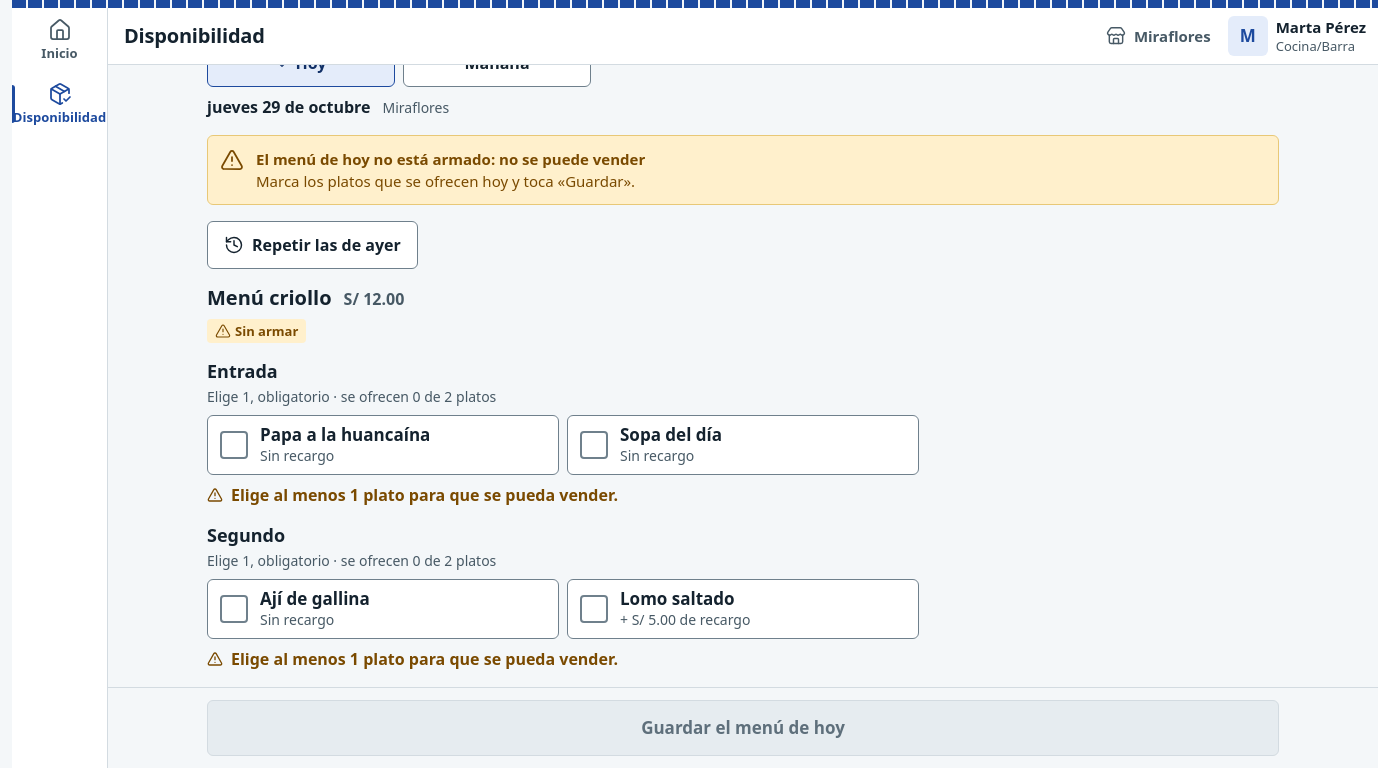
Test case: menú del día: armar › marcar platos y guardar manda el día y las opciones, y deja el menú armado
The image size is (1378, 768).
(page scrolled)
Click the checkbox labelled "Sopa del día Sin recargo": click(671, 434) [567,415,919,475]
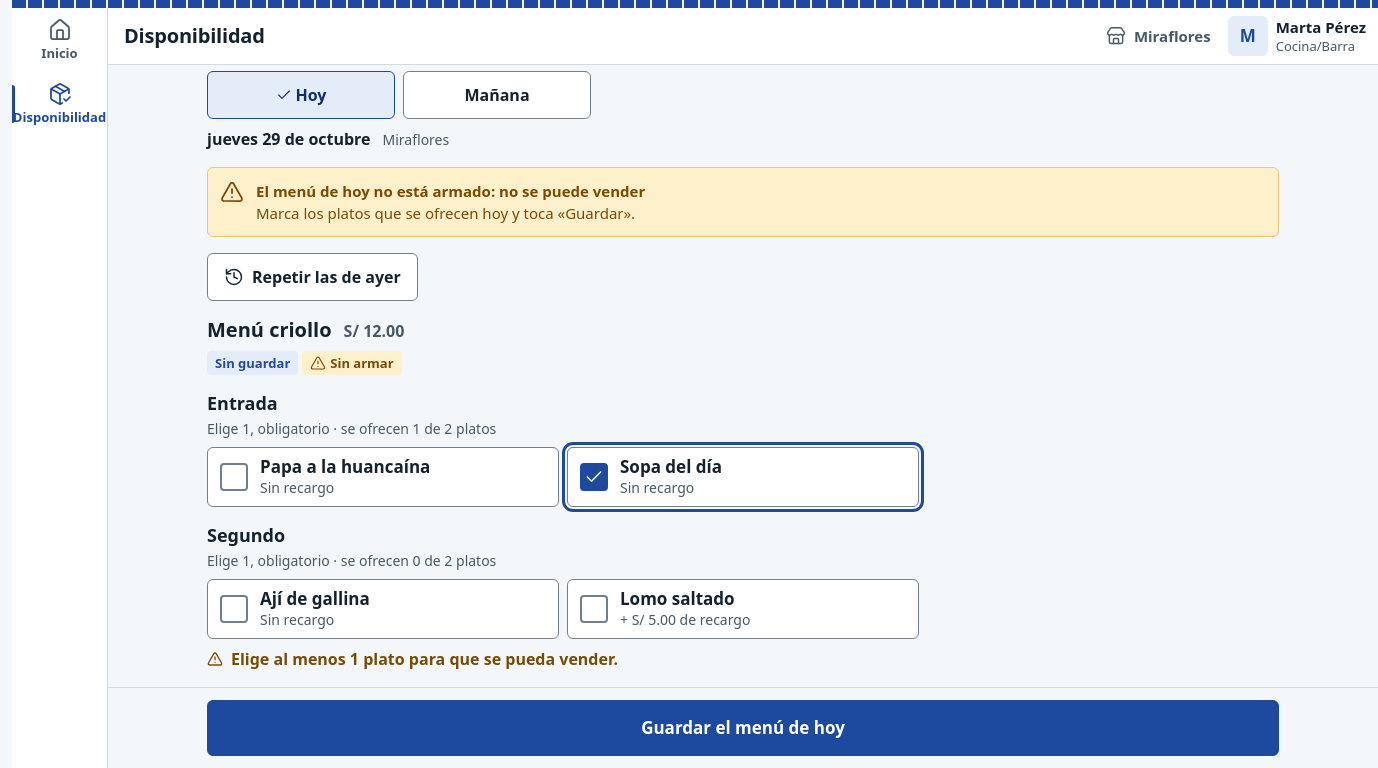
Expected: the text "Sin guardar" is shown, [207,351,298,375]
Expected: the text "Elige al menos 1 plato para que se pueda vender." is shown once, [207,648,618,670]
Click the checkbox labelled "Lomo saltado + S/ 5.00 de recargo": click(743, 609) [567,579,919,639]
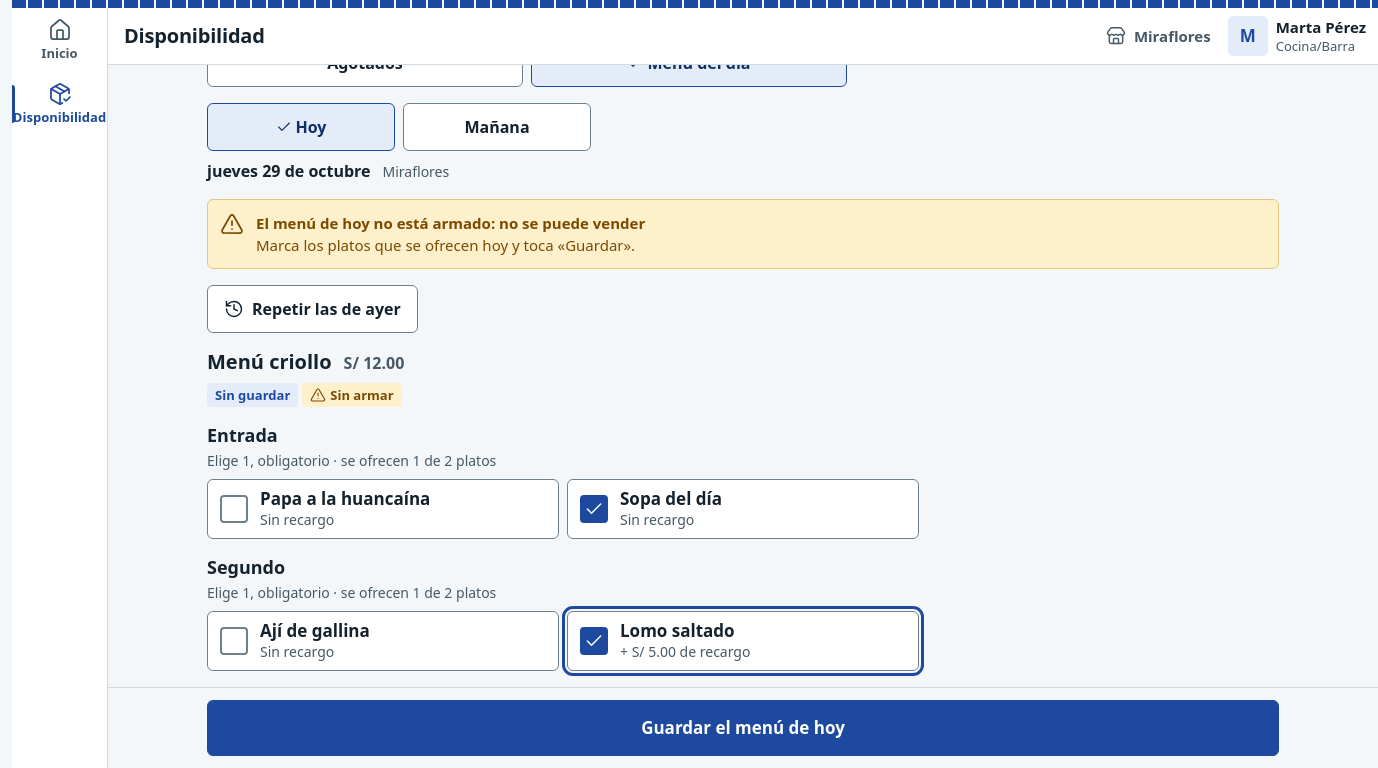
Expected: the text "Elige al menos 1 plato" is gone
Click the button "Guardar el menú de hoy": click(743, 728) [207,700,1279,756]
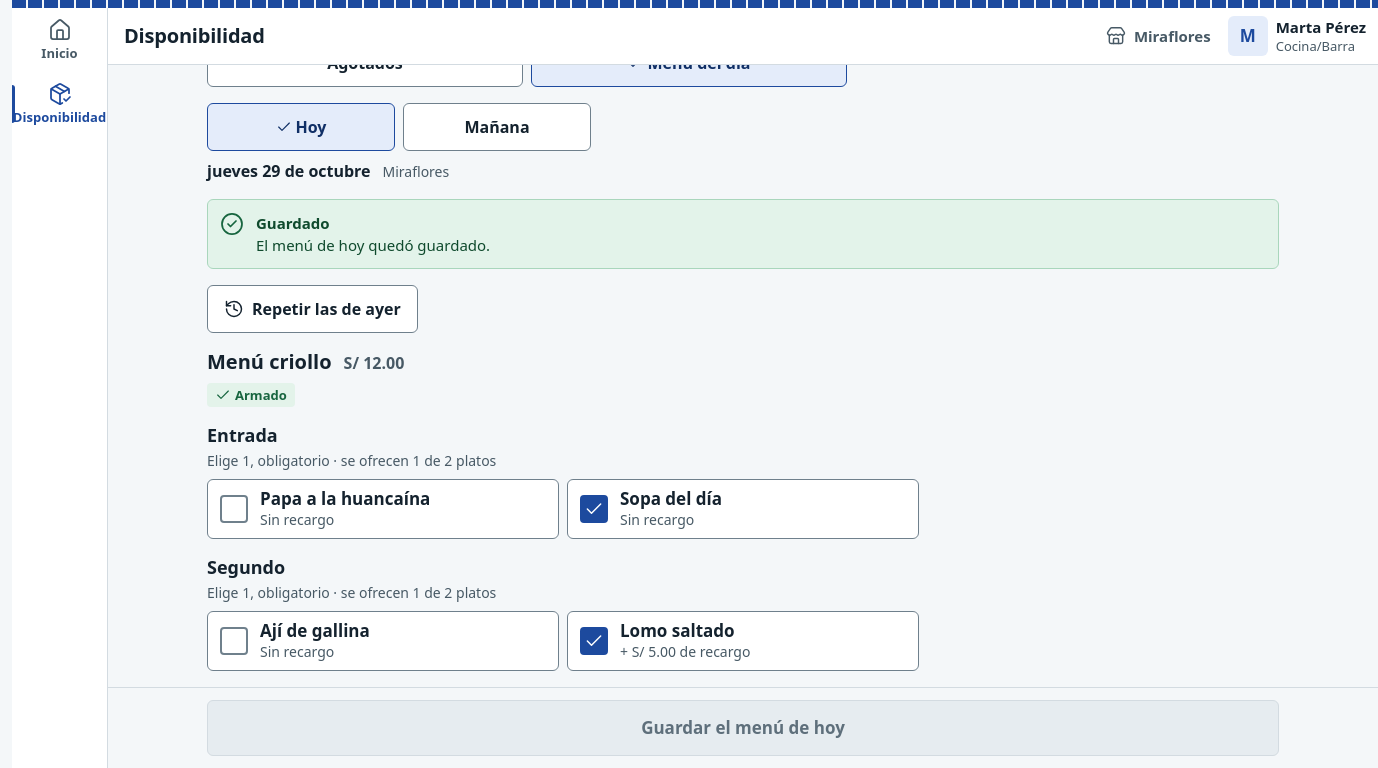
Expected: the text "El menú de hoy quedó guardado." is shown, [256,235,490,255]
Expected: the text "Armado" is shown, [207,383,295,407]
Expected: the text "Sin guardar" is gone
